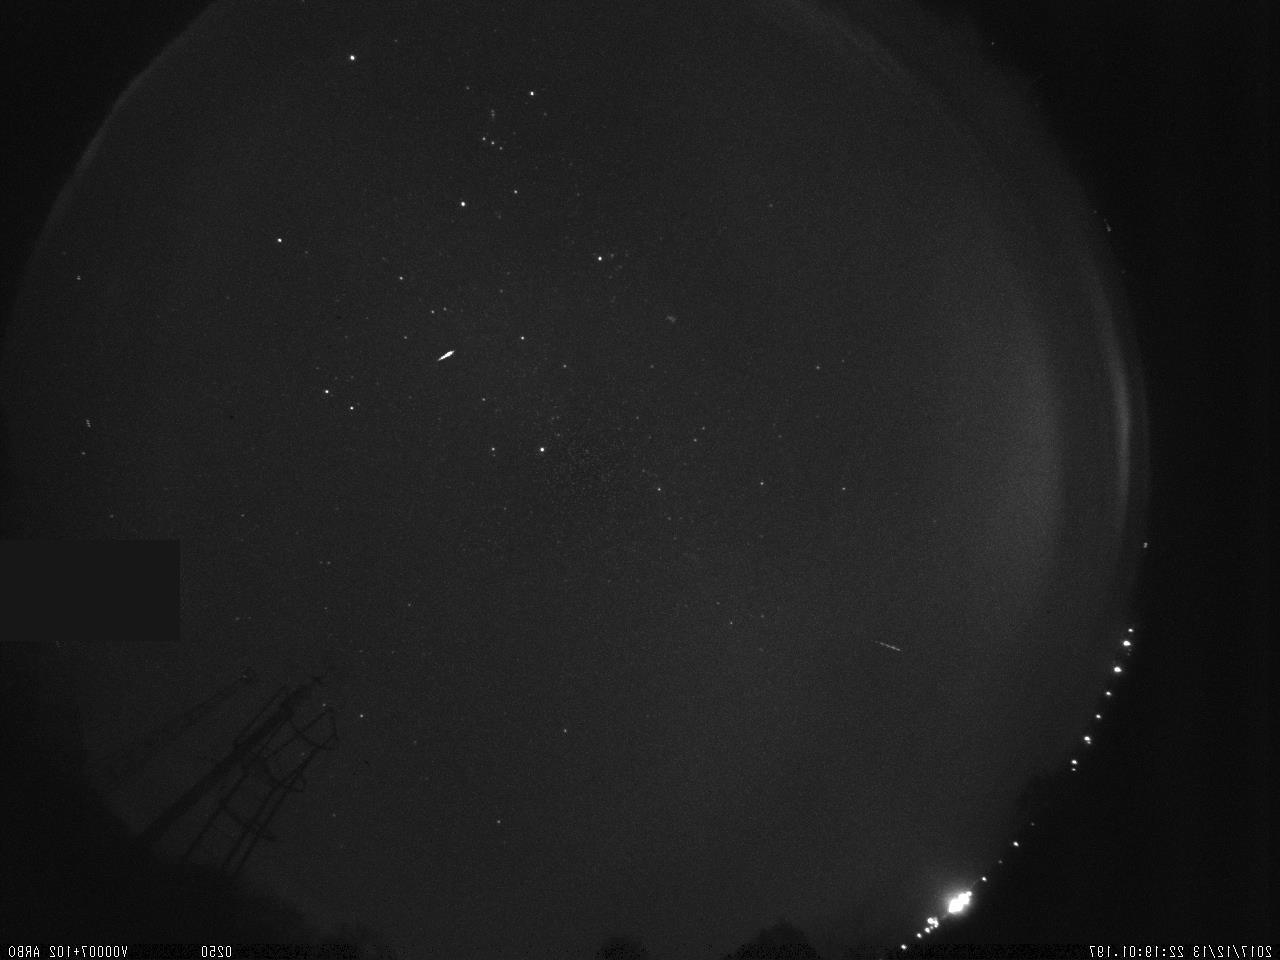meteor: (430, 340, 464, 369)
